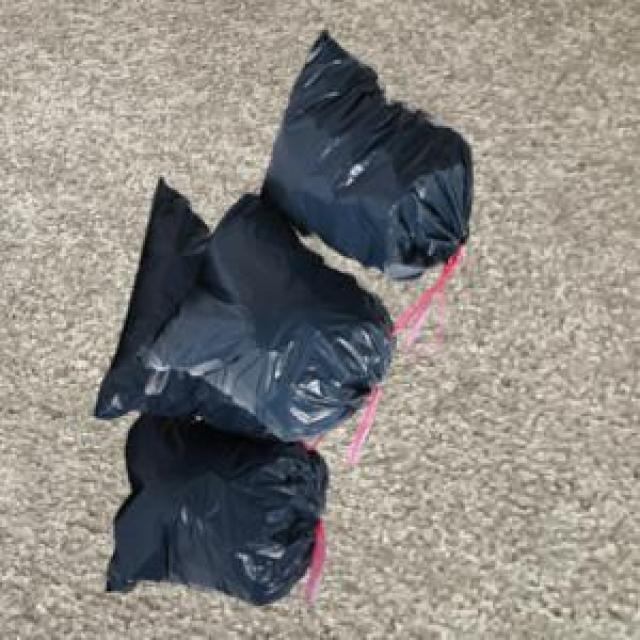Vinyl: (95, 34, 468, 603)
